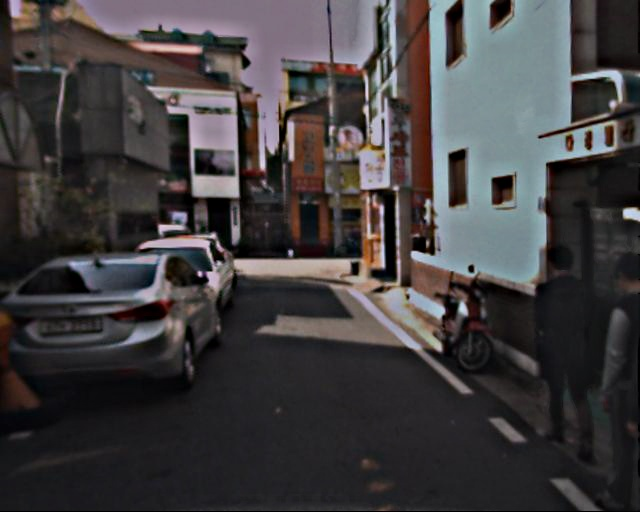person: (520, 243, 609, 455), (572, 257, 640, 506)
